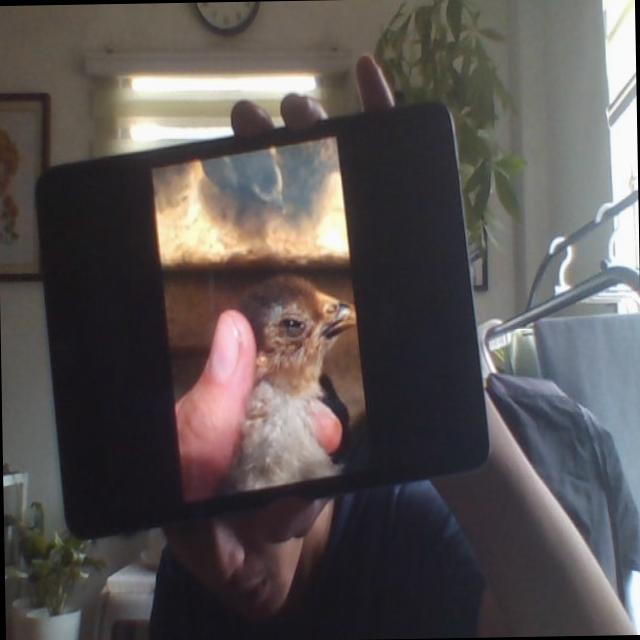Sick: (222, 272, 362, 489)
